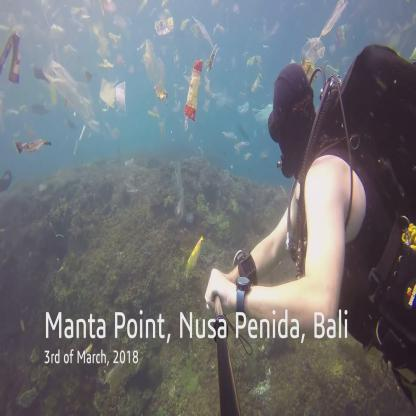Rác: (35, 1, 121, 51), (41, 56, 96, 121), (298, 0, 346, 68), (138, 0, 197, 43), (140, 45, 178, 108), (224, 121, 262, 174), (166, 162, 190, 234), (0, 30, 24, 82), (185, 55, 201, 124), (102, 79, 124, 120), (184, 233, 204, 276), (94, 0, 124, 24), (122, 159, 140, 193), (256, 18, 281, 36), (209, 17, 228, 38), (242, 50, 263, 68), (154, 19, 173, 38), (247, 70, 264, 88)
